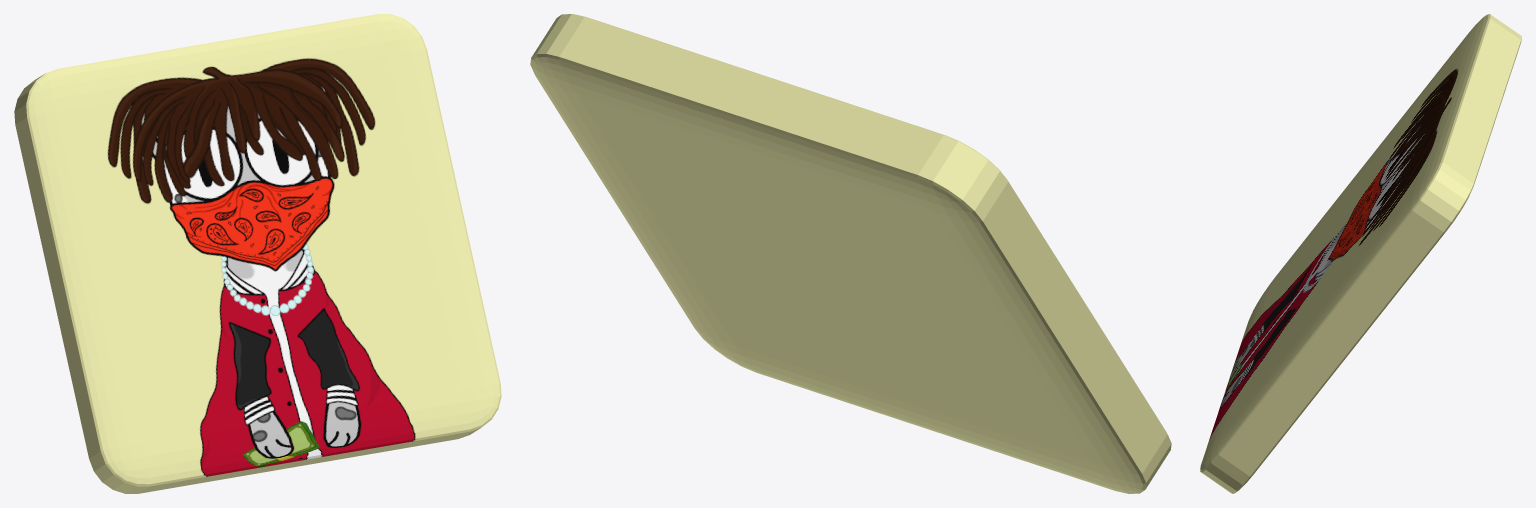
The picture shows the model from 3 angles, left to right: view 1: azimuth 30°, elevation 25°; view 2: azimuth 150°, elevation 25°; view 3: azimuth 270°, elevation 25°; orthographic projection. The views are drawn at different scales.
Parts seen in each view (by area): view 1: OG1; view 2: OG1; view 3: OG1.
Part boxes in pixels (x1=…): OG1: x1=14, y1=14, x2=501, y2=493; OG1: x1=530, y1=14, x2=1171, y2=493; OG1: x1=1200, y1=14, x2=1521, y2=493.
Size of the model in its own units: 1.01 by 0.8286 by 0.712.
1 material, 1 textured.
